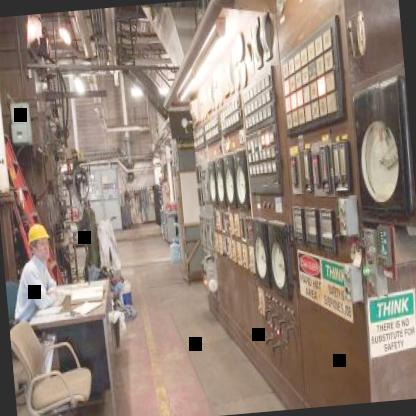helmet: (26, 219, 54, 266)
